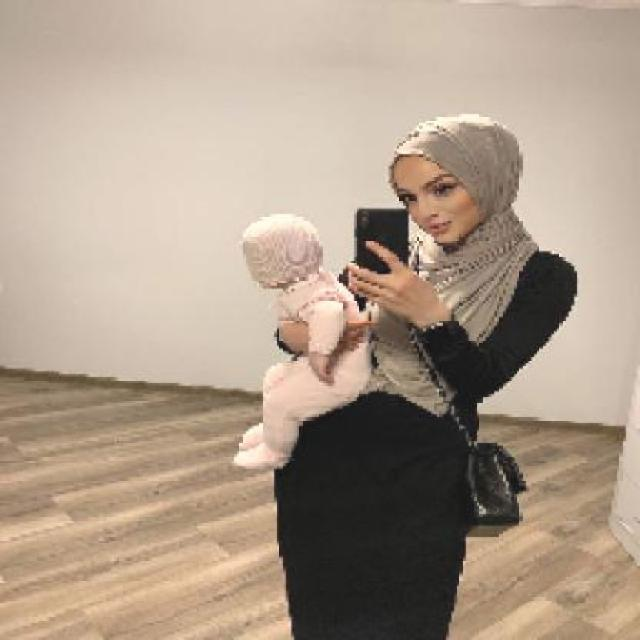child: (233, 214, 373, 472)
